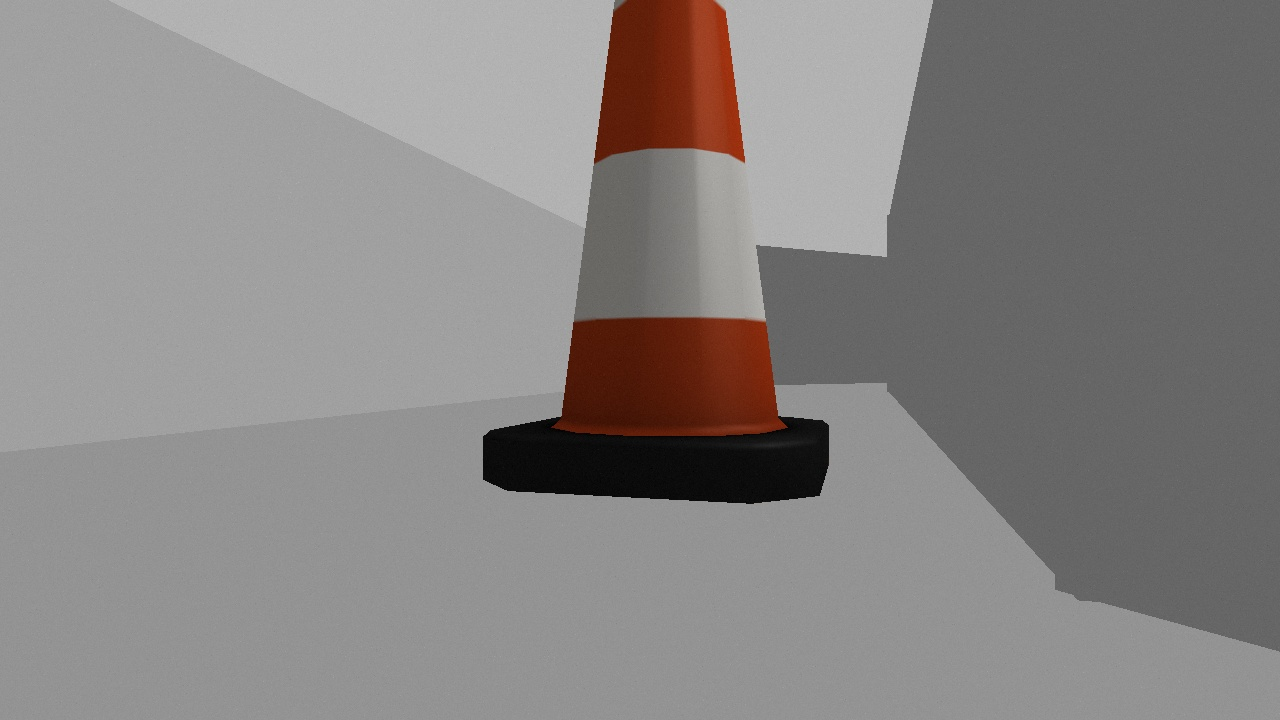barricade: (481, 1, 833, 502)
